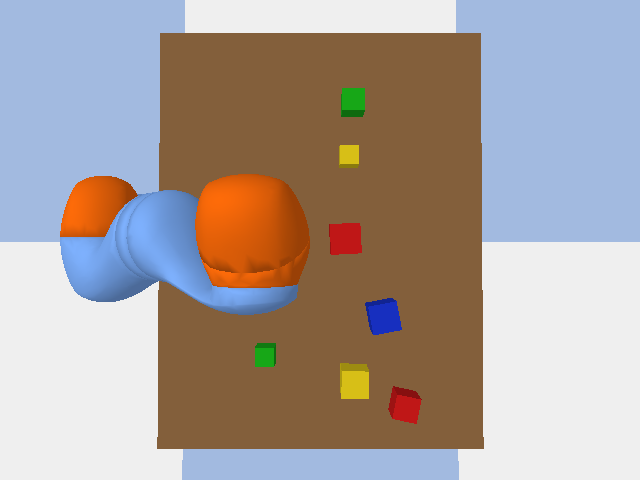blue_obj: (365, 298, 401, 334)
green_obj: (341, 88, 364, 116), (255, 343, 275, 366)
red_obj: (388, 386, 421, 423), (329, 223, 361, 254)
yellow_obj: (340, 363, 368, 398), (339, 145, 358, 167)
